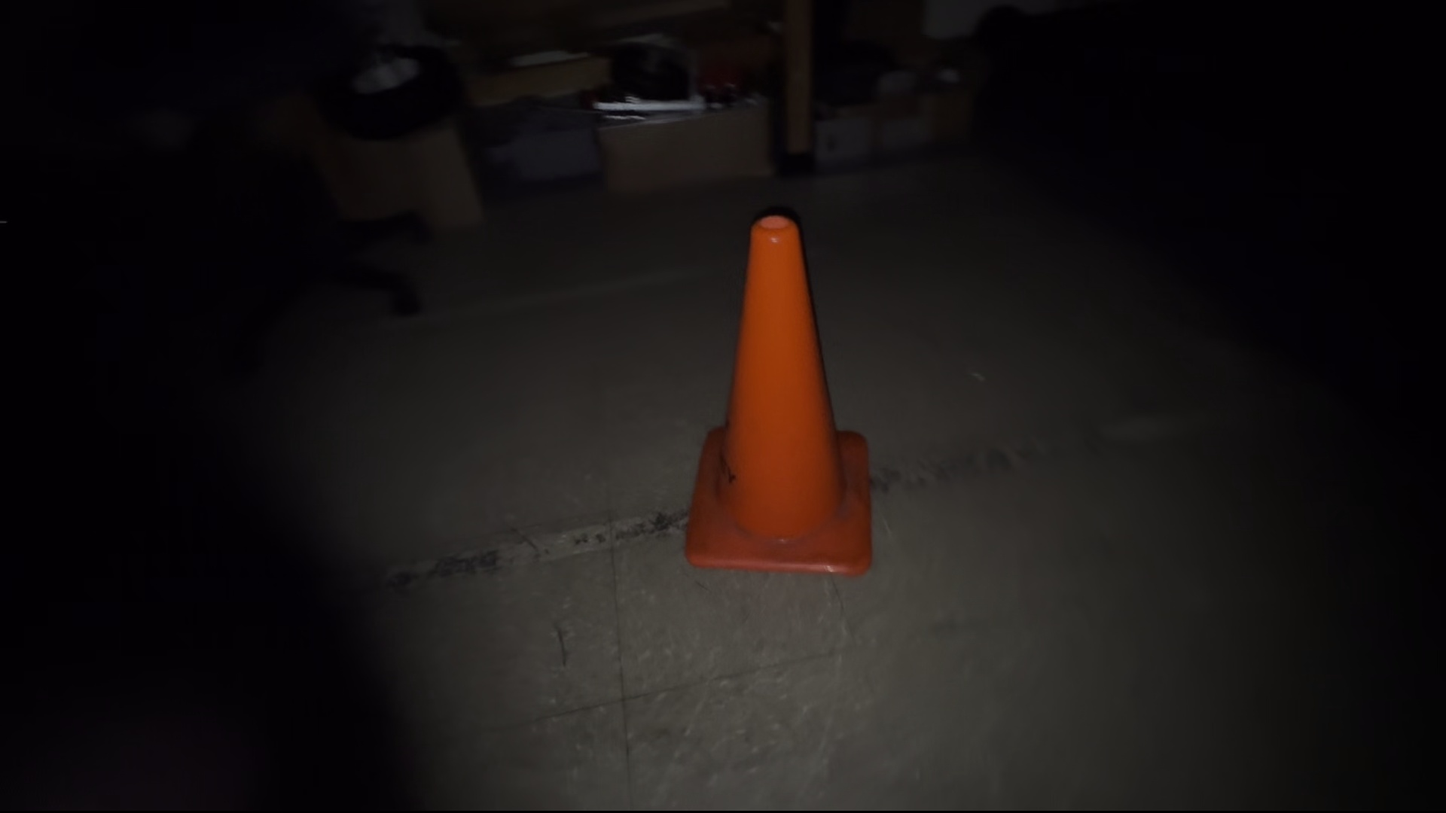traffic_cone: (683, 208, 874, 576)
